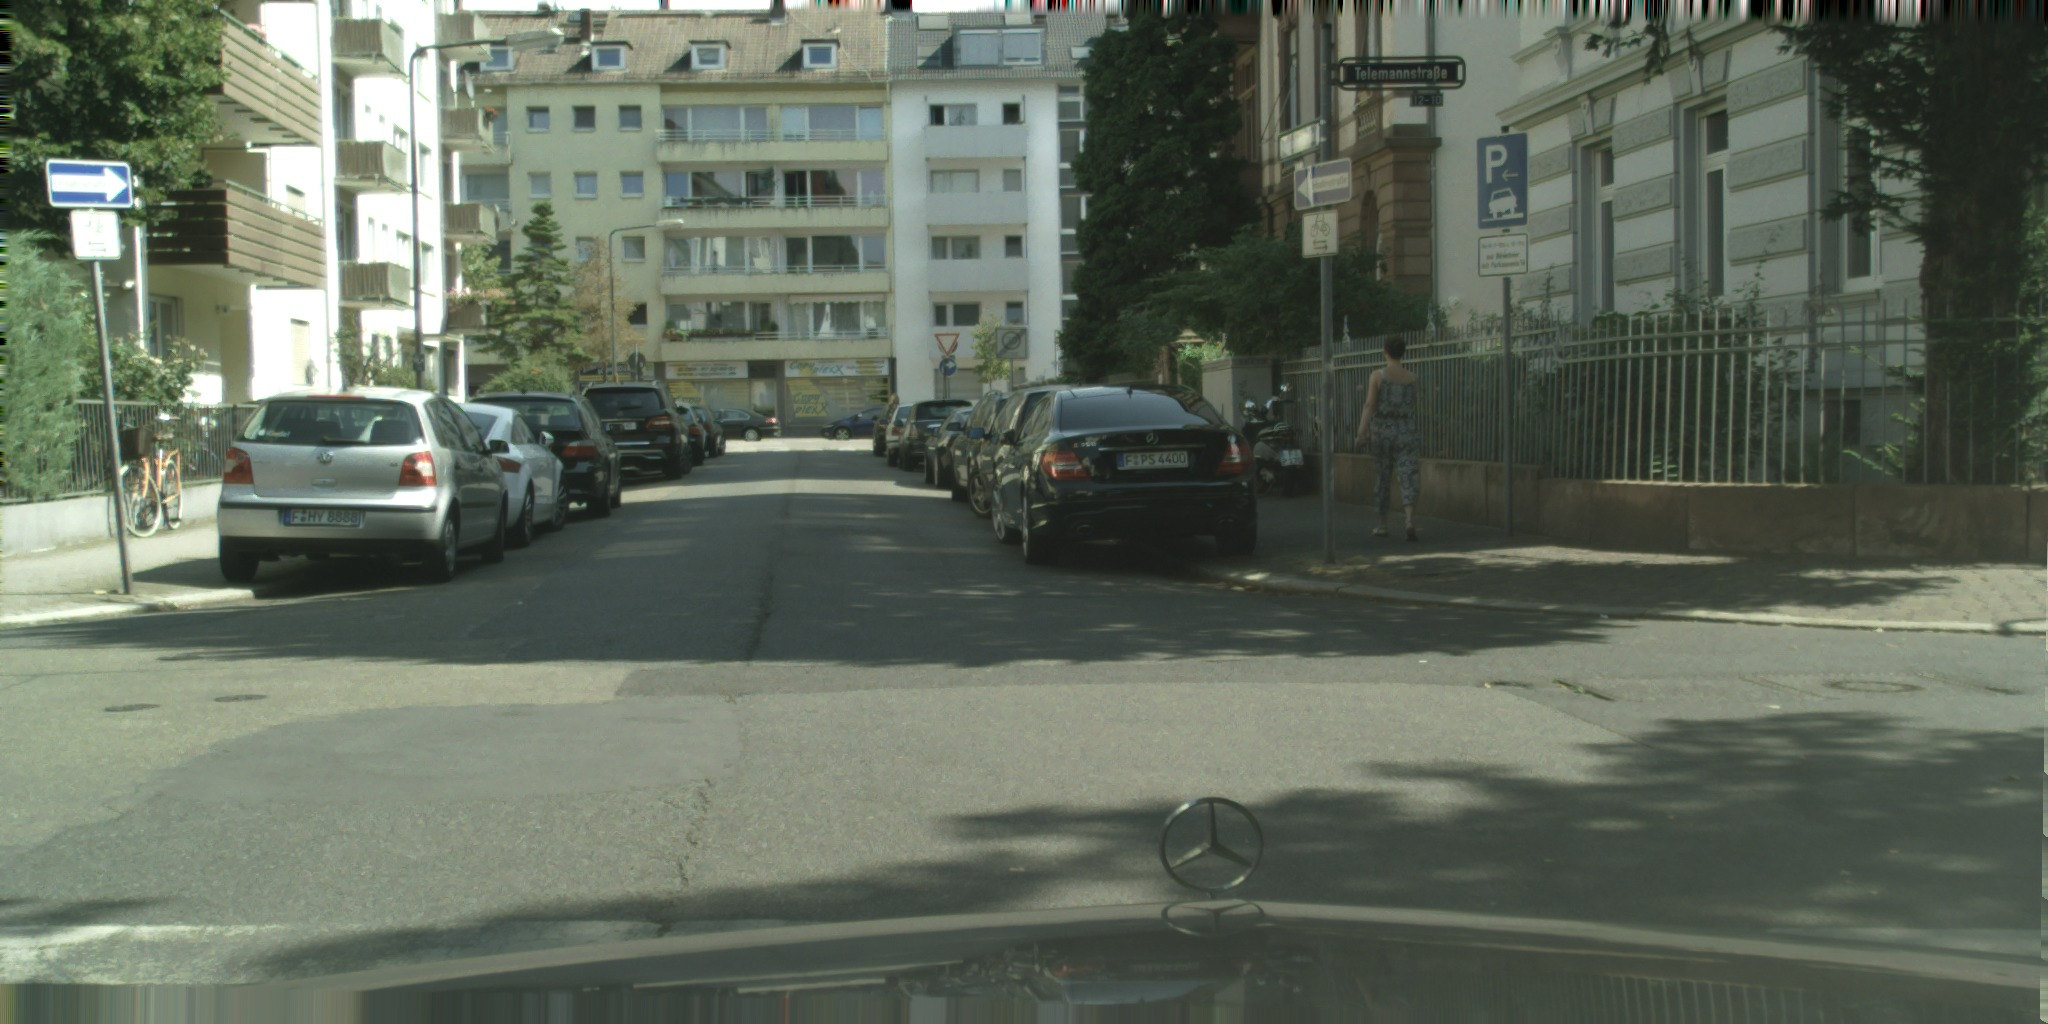bicycle: (118, 414, 182, 537)
car: (217, 386, 509, 582), (991, 383, 1257, 565), (464, 388, 621, 515), (967, 382, 1109, 518), (447, 403, 569, 546), (577, 380, 692, 479), (946, 389, 1029, 501), (894, 399, 973, 472), (923, 406, 977, 487), (821, 406, 895, 441), (706, 408, 780, 442), (667, 402, 706, 465), (686, 405, 726, 458), (880, 403, 915, 465), (872, 405, 909, 456)
motorcycle: (1240, 382, 1303, 495)
person: (1356, 334, 1420, 540), (886, 393, 898, 427)
